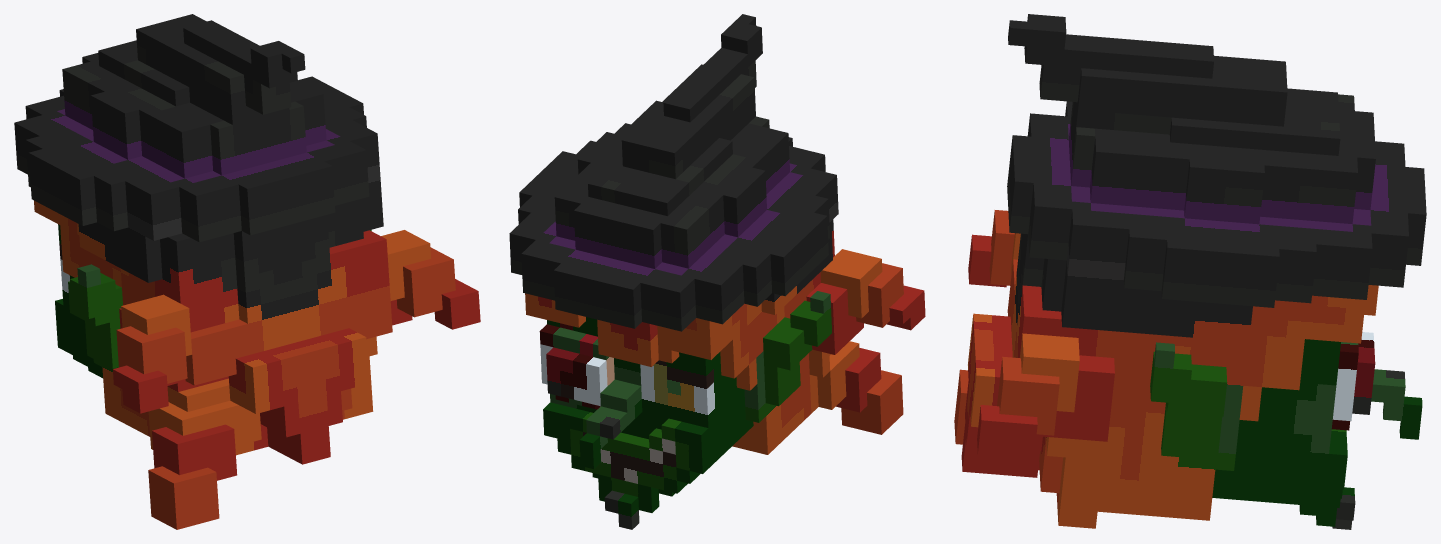
Rendered from adf2d90c-8703-4f88-a0a8-136e1ec05621.gltf.
3 renders of one model, left to right at view 1: azimuth 30°, elevation 25°; view 2: azimuth 150°, elevation 25°; view 3: azimuth 270°, elevation 25°, orthographic. The views are drawn at different scales.
Visible parts, largest first — view 1: Equip_Head-Local; view 2: Equip_Head-Local; view 3: Equip_Head-Local.
Part boxes in pixels (left/top/right/bottom): Equip_Head-Local: left=14, top=14, right=480, bottom=529; Equip_Head-Local: left=509, top=14, right=925, bottom=529; Equip_Head-Local: left=954, top=14, right=1426, bottom=529.
Bounding box in the file's own units: 24.08 × 29.95 × 25.11.
Materials: 1 (1 with a texture image).
